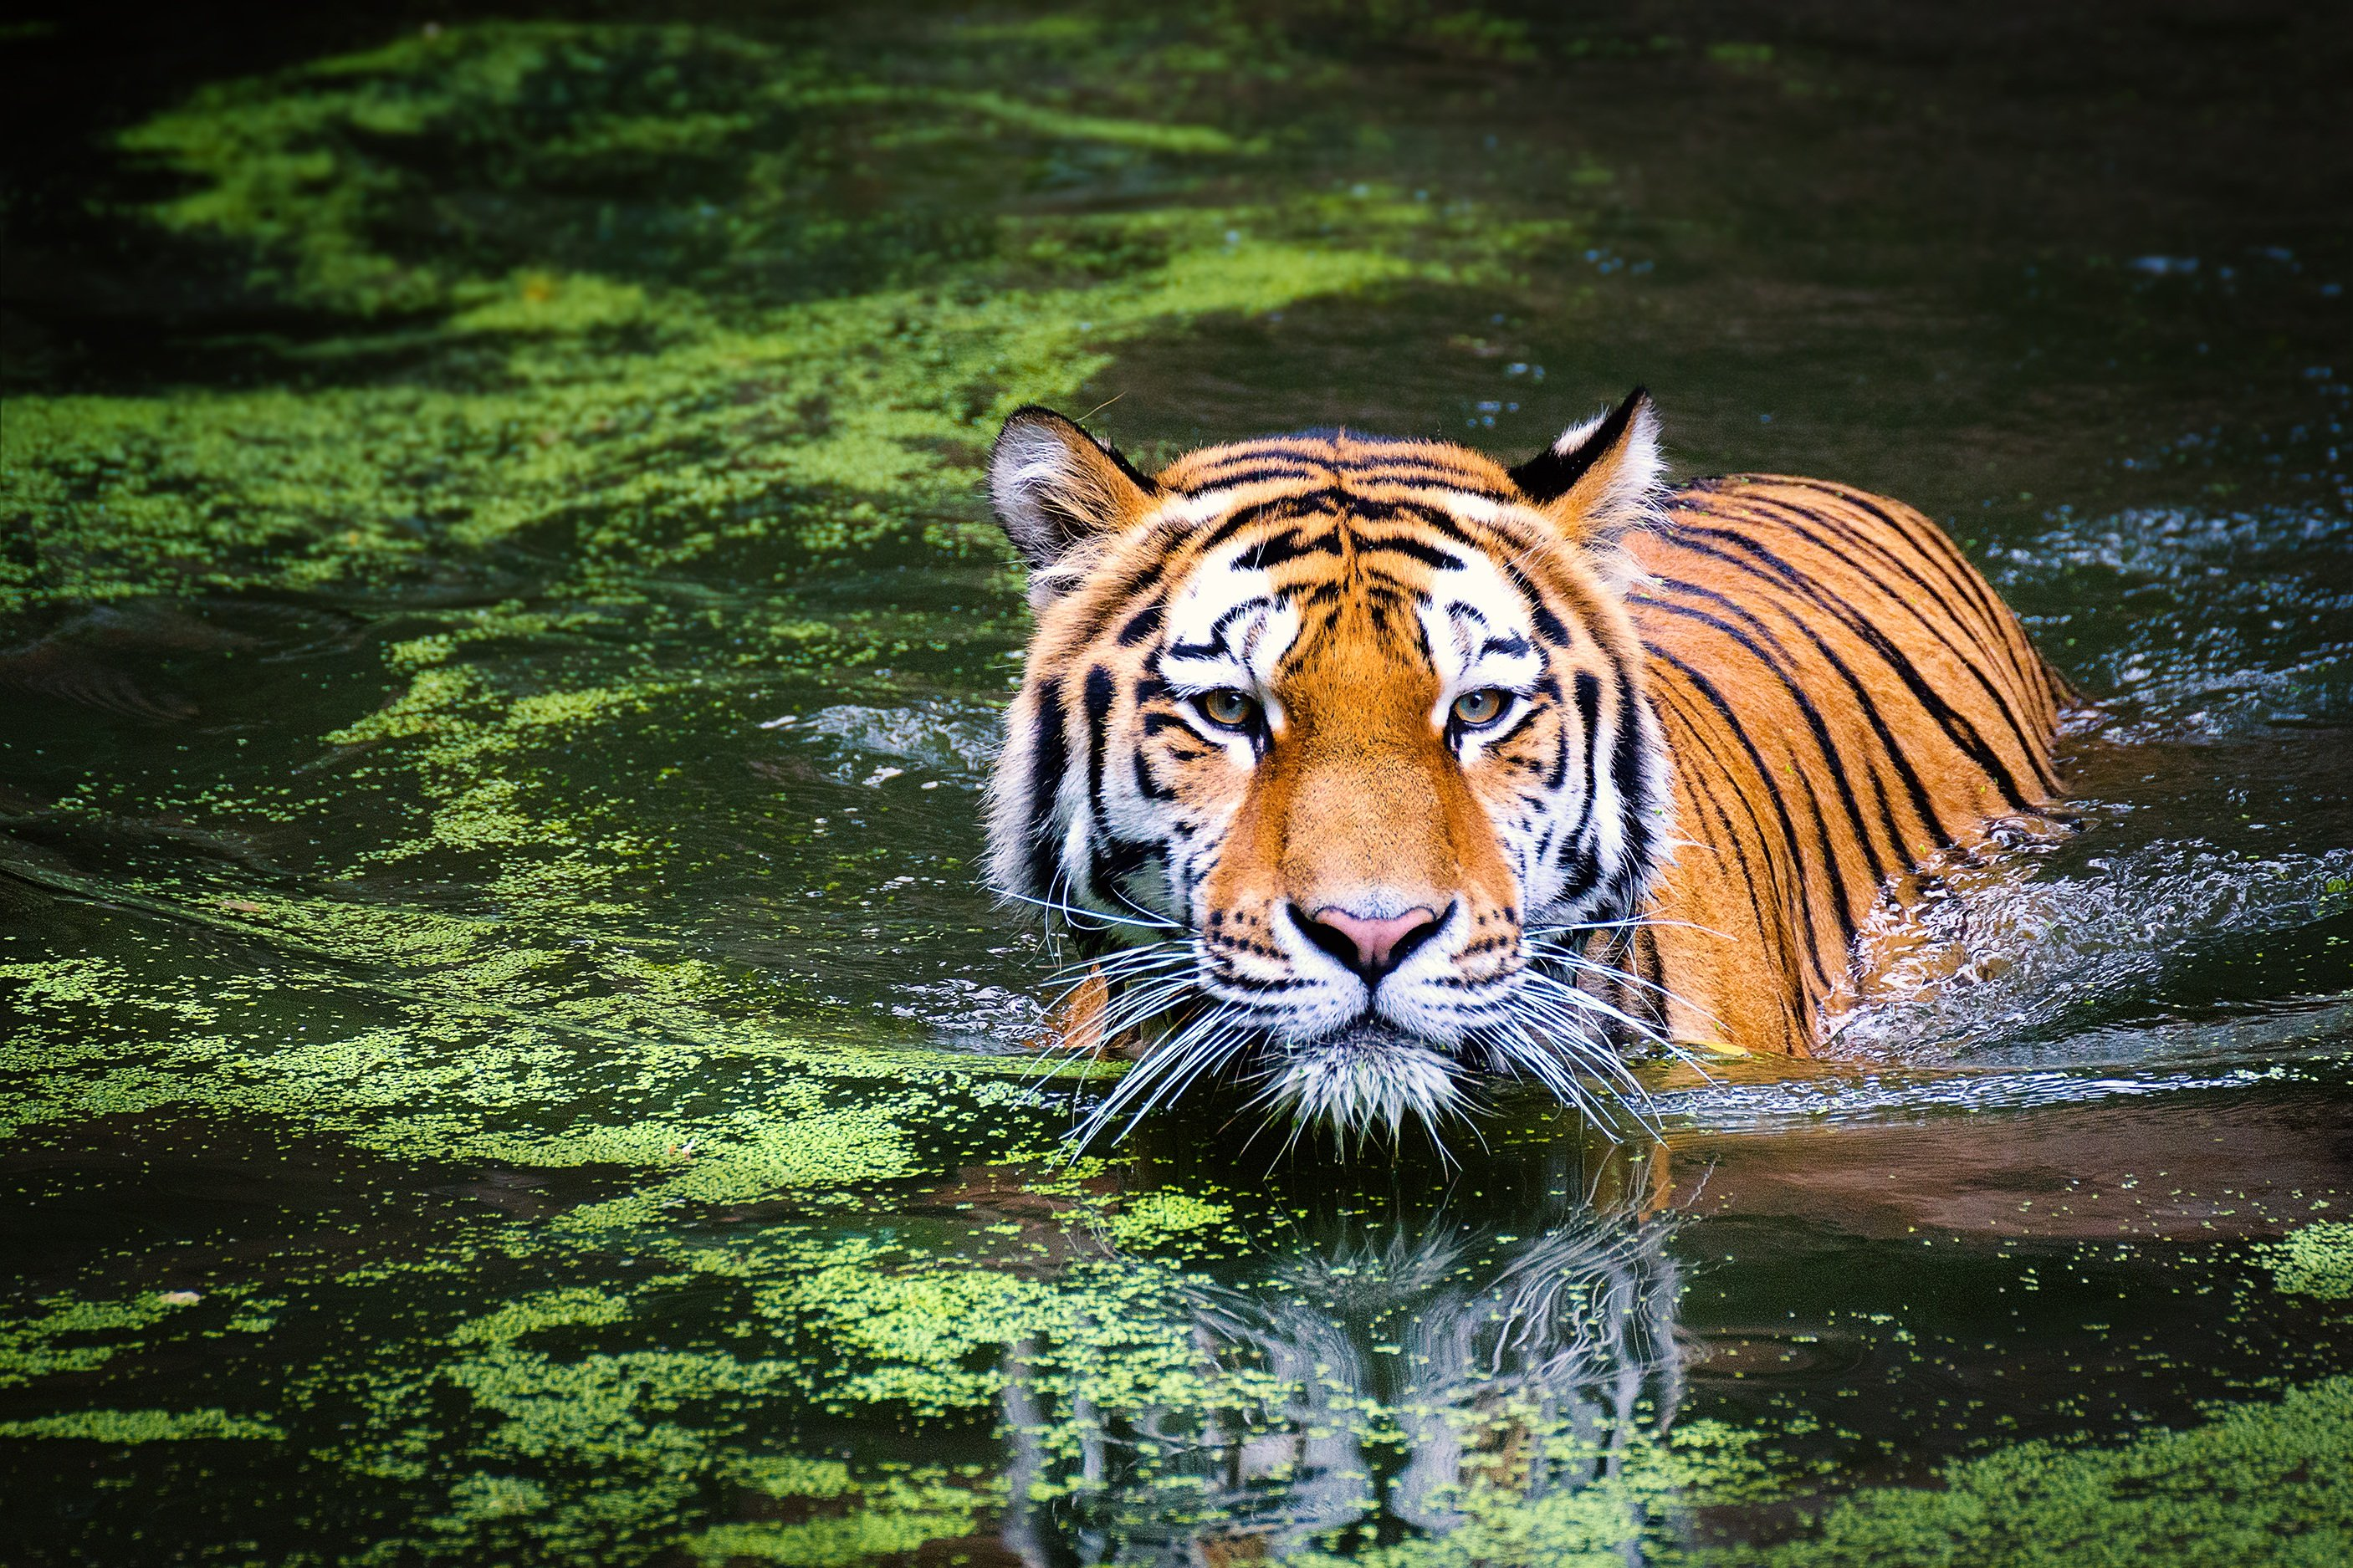tiger: (954, 362, 2087, 1221)
